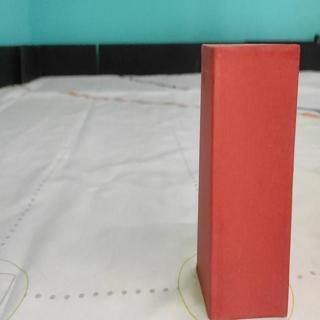redbox: (195, 40, 301, 320)
